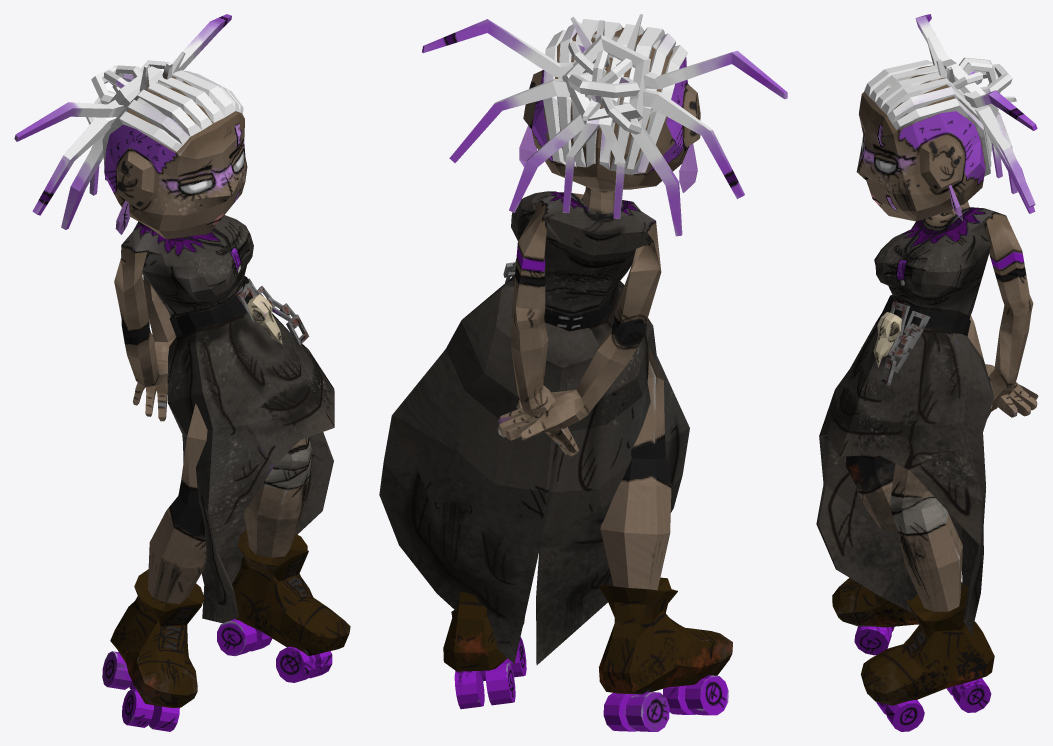
The model's file is bruja_000025.obj.
3 renders of one model, left to right at view 1: azimuth 30°, elevation 25°; view 2: azimuth 150°, elevation 25°; view 3: azimuth 270°, elevation 25°, orthographic. The views are drawn at different scales.
Parts seen in each view (by area): view 1: Bruja_Plane.001; view 2: Bruja_Plane.001; view 3: Bruja_Plane.001.
Part boxes in pixels (box(x1,y1,x2,y2)): Bruja_Plane.001: box(14, 14, 350, 731); Bruja_Plane.001: box(379, 14, 787, 731); Bruja_Plane.001: box(816, 14, 1038, 731).
Size of the model in its own units: 8.87 by 15.99 by 5.19.
